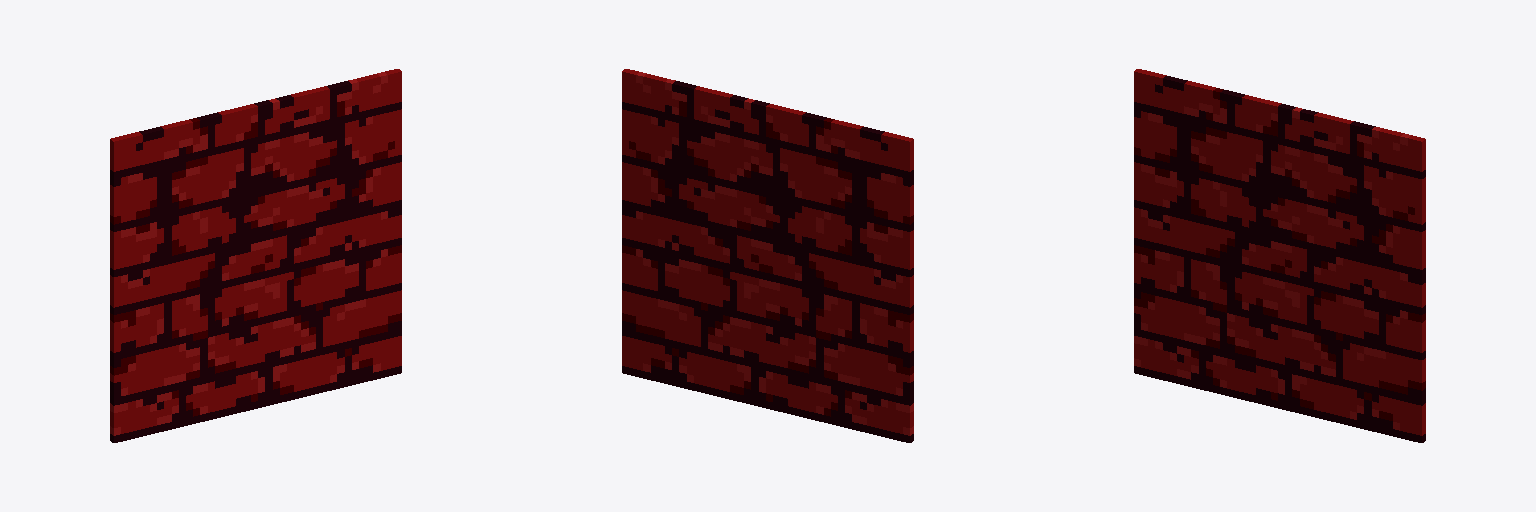
The picture shows the model from 3 angles: view 1: azimuth 30°, elevation 25°; view 2: azimuth 150°, elevation 25°; view 3: azimuth 330°, elevation 25°; orthographic projection.
Visible parts, largest first — view 1: object 1; view 2: object 1; view 3: object 1.
Boxes of the visible parts, <box> form: object 1: <box>110,69,401,442</box>; object 1: <box>622,69,913,442</box>; object 1: <box>1134,69,1425,442</box>.
Bounding box in the file's own units: 4 × 4 × 0.1.
1 materials, 1 textured.